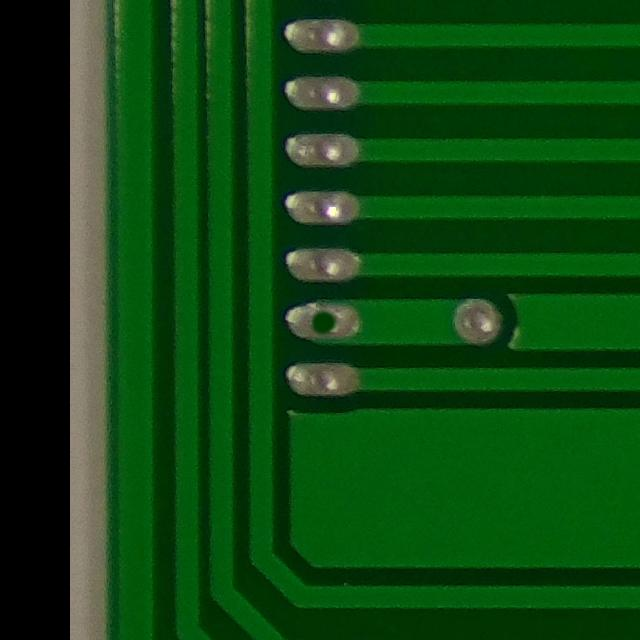missing_hole: (289, 288, 351, 352)
